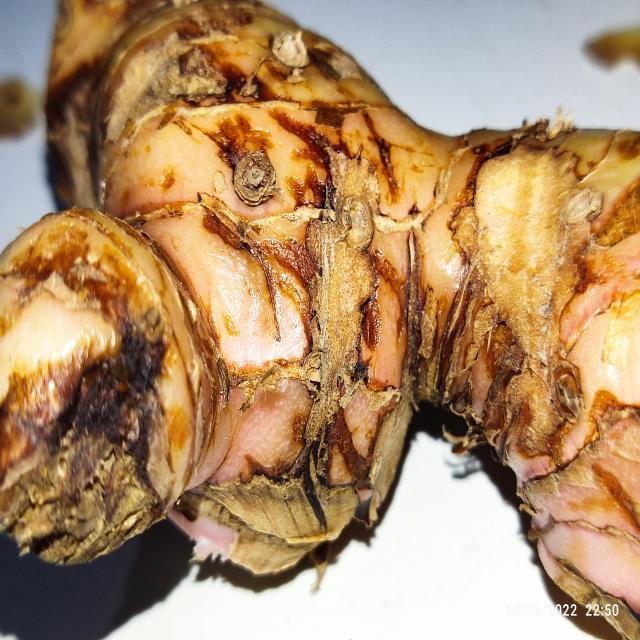ginger: (2, 0, 640, 583)
